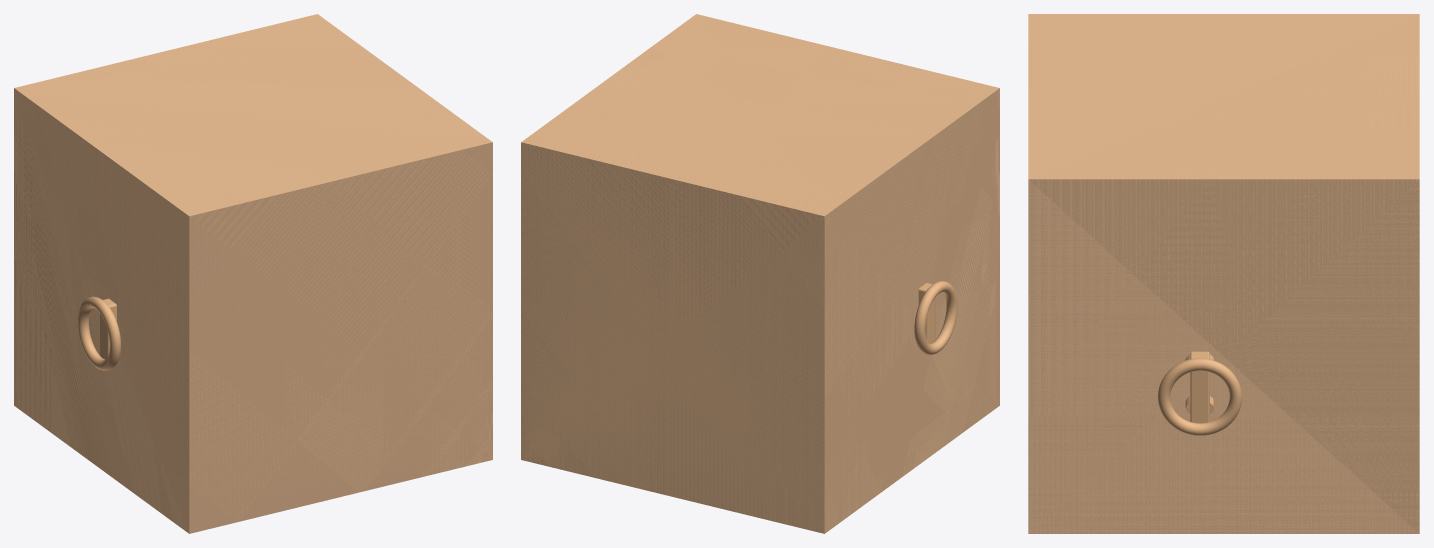
The picture shows the model from 3 angles, left to right: view 1: azimuth 30°, elevation 25°; view 2: azimuth 150°, elevation 25°; view 3: azimuth 270°, elevation 25°; orthographic projection. The views are drawn at different scales.
Visible parts, largest first — view 1: object 1, object 10, Pot_Handle_2; view 2: object 1, object 10, Pot_Handle_2; view 3: object 1, object 10, Pot_Handle_1, Pot_Handle_Connector_1.
Boxes of the visible parts, box(x1,y1,x2,y2) form: object 1: box(14, 88, 492, 533); object 10: box(14, 14, 492, 216); Pot_Handle_2: box(77, 296, 120, 370); object 1: box(521, 88, 999, 533); object 10: box(521, 14, 999, 216); Pot_Handle_2: box(914, 281, 957, 354); object 1: box(1028, 179, 1419, 533); object 10: box(1028, 14, 1419, 179); Pot_Handle_1: box(1158, 358, 1241, 435); Pot_Handle_Connector_1: box(1190, 351, 1209, 423).
Bounding box in the file's own units: 0.7391 × 0.5959 × 0.5959.
